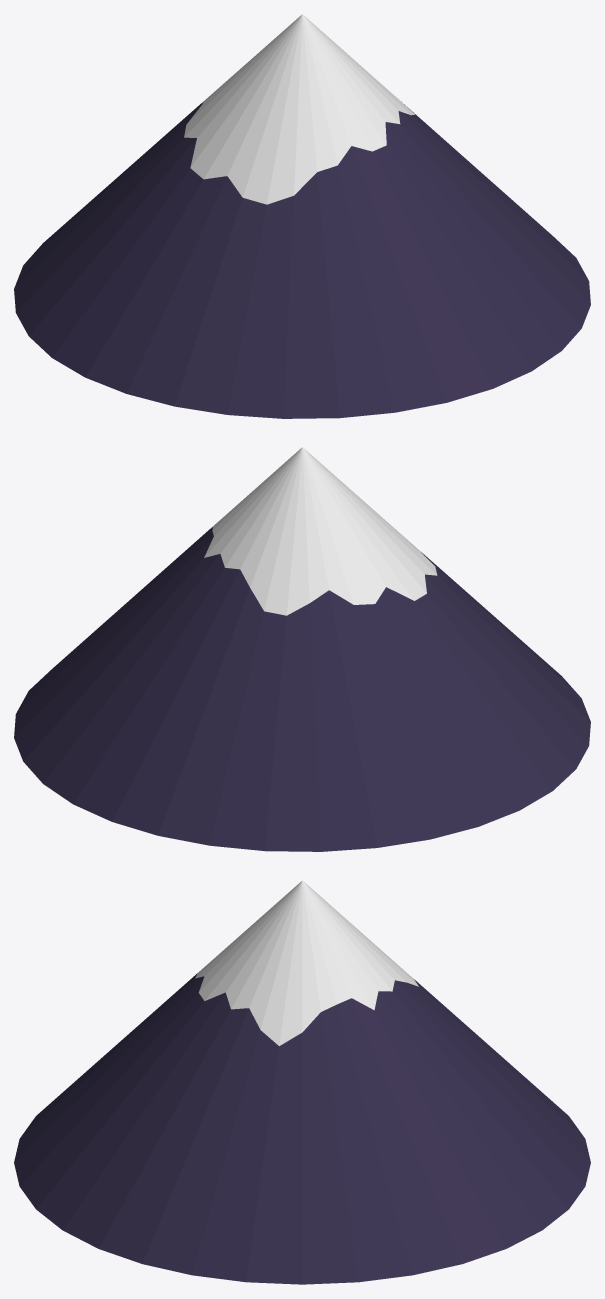
The model's file is Mountain.fbx.
3 views of the same model, one above another, from view 1: azimuth 30°, elevation 25°; view 2: azimuth 150°, elevation 25°; view 3: azimuth 270°, elevation 25° (orthographic).
Parts seen in each view (by area): view 1: Mountain; view 2: Mountain; view 3: Mountain.
Boxes of the visible parts, x1,y1,x2,y2 form: Mountain: (14,14,590,418); Mountain: (14,447,590,851); Mountain: (14,880,590,1284).
Size of the model in its own units: 150 by 81 by 150.
